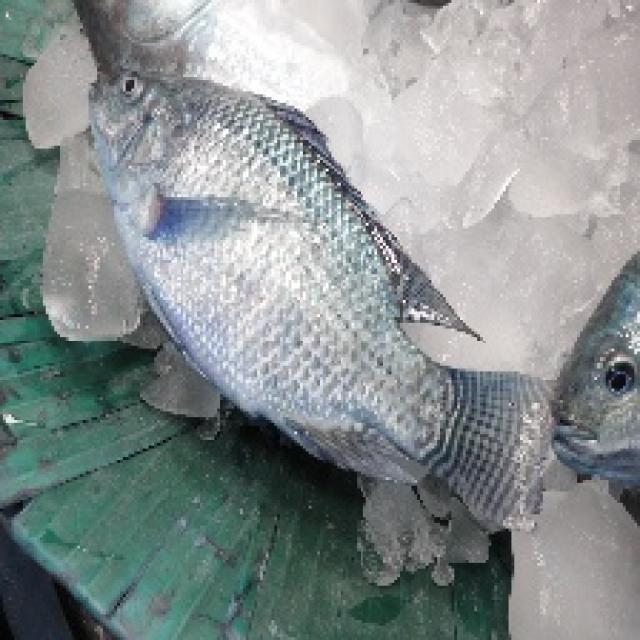Fresh: (75, 57, 428, 404), (594, 348, 640, 412)
